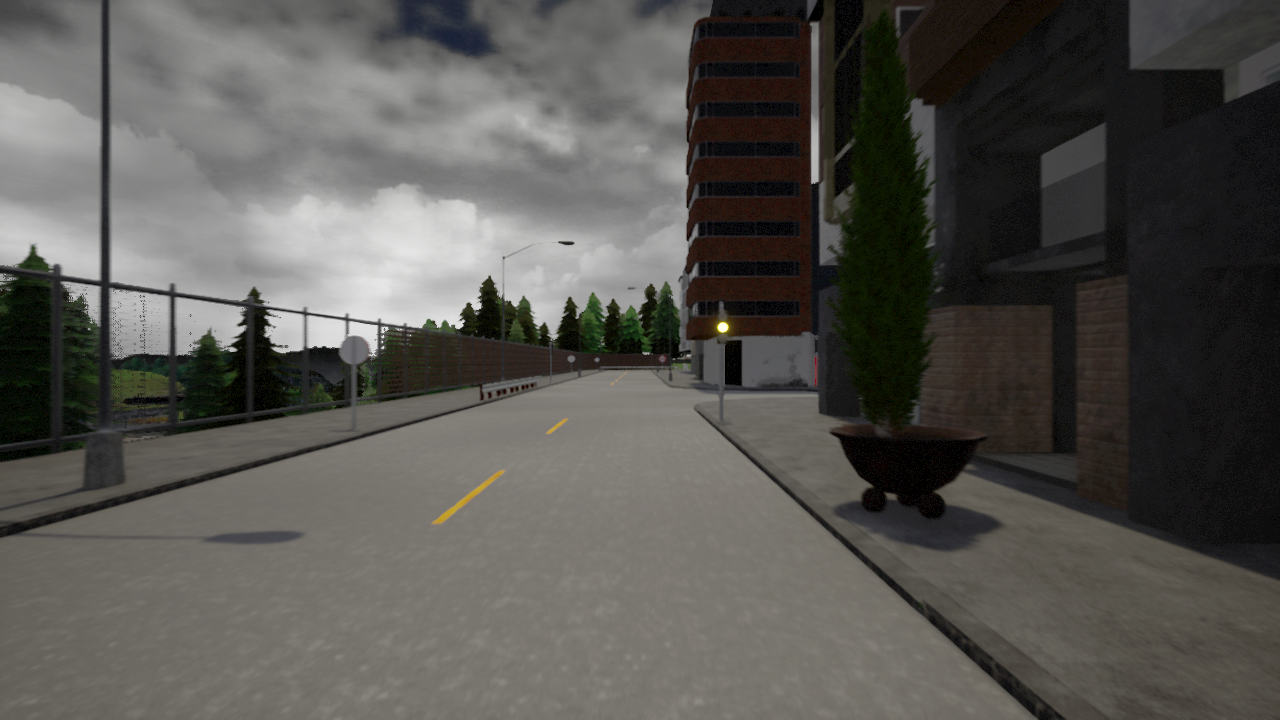yellow: (715, 309, 731, 345)
